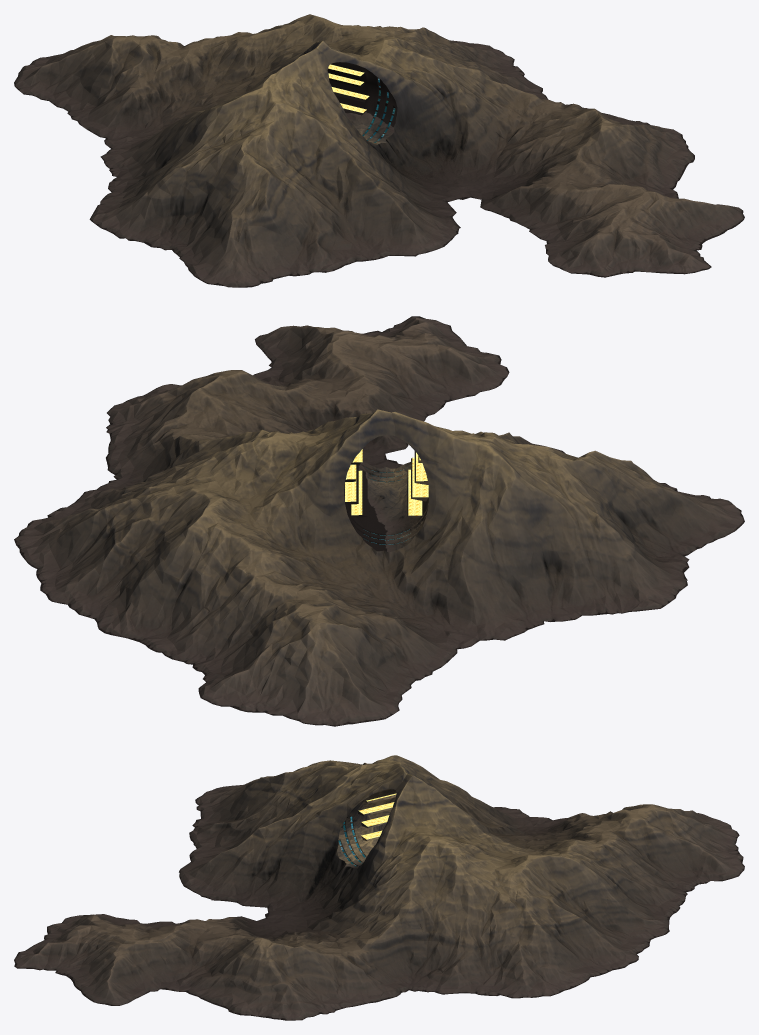
The model's file is mountain-green.glb.
The picture shows the model from 3 angles, top to bottom: view 1: azimuth 30°, elevation 25°; view 2: azimuth 150°, elevation 25°; view 3: azimuth 270°, elevation 25°; orthographic projection. The views are drawn at different scales.
Visible parts, largest first — view 1: MaterialFBXASC032FBXASC0352142150746, HFBXASC195FBXASC188lle; view 2: MaterialFBXASC032FBXASC0352142150746, MaterialFBXASC032FBXASC0352142146907, HFBXASC195FBXASC188lle; view 3: MaterialFBXASC032FBXASC0352142150746, MaterialFBXASC032FBXASC0352142146907.
Boxes of the visible parts, <box> form: MaterialFBXASC032FBXASC0352142150746: <box>14,14,744,287</box>; HFBXASC195FBXASC188lle: <box>328,64,369,112</box>; MaterialFBXASC032FBXASC0352142150746: <box>14,316,744,726</box>; MaterialFBXASC032FBXASC0352142146907: <box>408,452,428,515</box>; HFBXASC195FBXASC188lle: <box>345,449,362,515</box>; MaterialFBXASC032FBXASC0352142150746: <box>14,755,744,1020</box>; MaterialFBXASC032FBXASC0352142146907: <box>358,793,396,839</box>.
Size of the model in its own units: 4777 by 1011 by 6014.
Materials: 5 (5 with a texture image).
